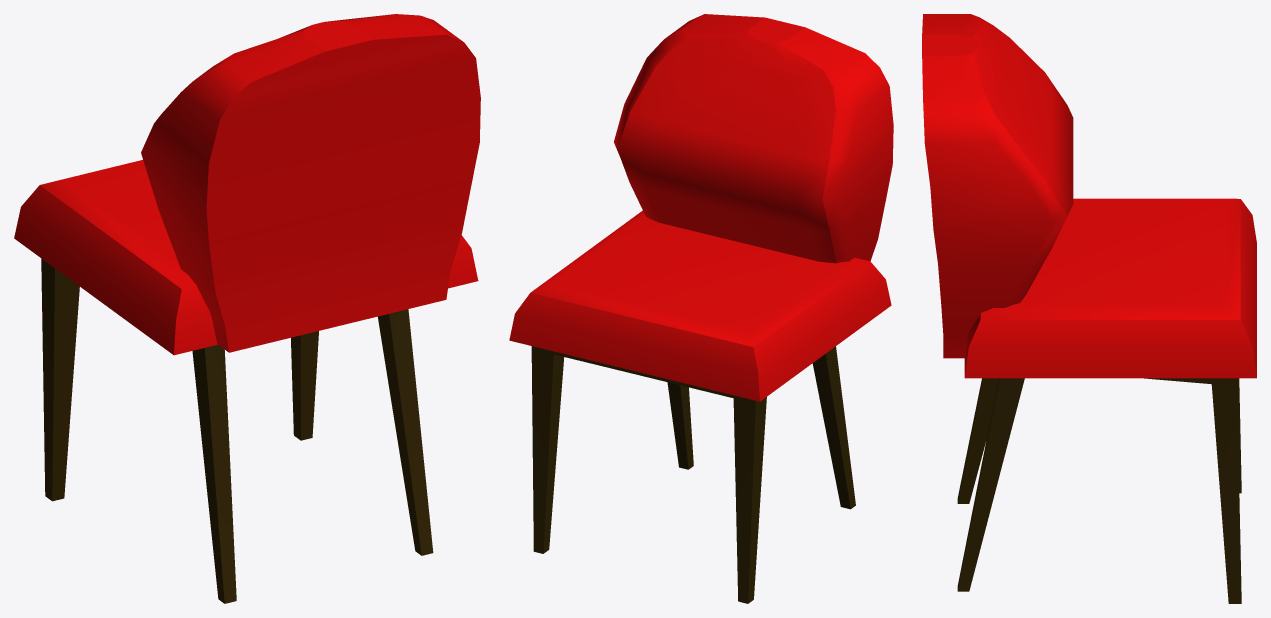
The model's file is 12_CHAIR6.fbx.
The picture shows the model from 3 angles, left to right: view 1: azimuth 30°, elevation 25°; view 2: azimuth 150°, elevation 25°; view 3: azimuth 270°, elevation 25°; orthographic projection. The views are drawn at different scales.
Visible parts, largest first — view 1: chair2_foam1, chair2_legs1; view 2: chair2_foam1, chair2_legs1; view 3: chair2_foam1, chair2_legs1.
Part boxes in pixels (left/top/right/bottom): chair2_foam1: left=14, top=14, right=480, bottom=355; chair2_legs1: left=41, top=258, right=433, bottom=603; chair2_foam1: left=509, top=14, right=893, bottom=401; chair2_legs1: left=531, top=346, right=855, bottom=603; chair2_foam1: left=922, top=14, right=1256, bottom=378; chair2_legs1: left=957, top=378, right=1241, bottom=603.
Size of the model in its own units: 1.67 by 2.87 by 1.74.
